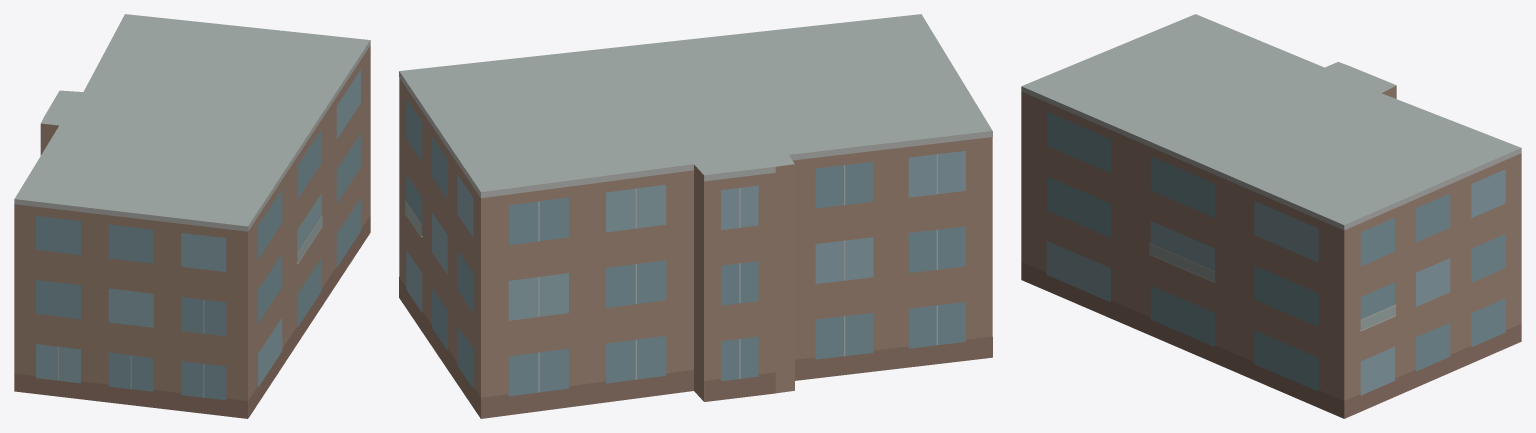
Rendered from survey-upis-32590176.glb.
3 views of the same model, side by side, from view 1: azimuth 30°, elevation 25°; view 2: azimuth 150°, elevation 25°; view 3: azimuth 270°, elevation 25° (orthographic). The views are drawn at different scales.
Visible parts, largest first — view 1: survey-upis-32590176.tmp; view 2: survey-upis-32590176.tmp; view 3: survey-upis-32590176.tmp.
Part boxes in pixels (x1,y1,x2,y2): survey-upis-32590176.tmp: (14, 14, 370, 418); survey-upis-32590176.tmp: (399, 14, 992, 418); survey-upis-32590176.tmp: (1021, 14, 1521, 418).
Size of the model in its own units: 21.41 by 9.15 by 21.43.
